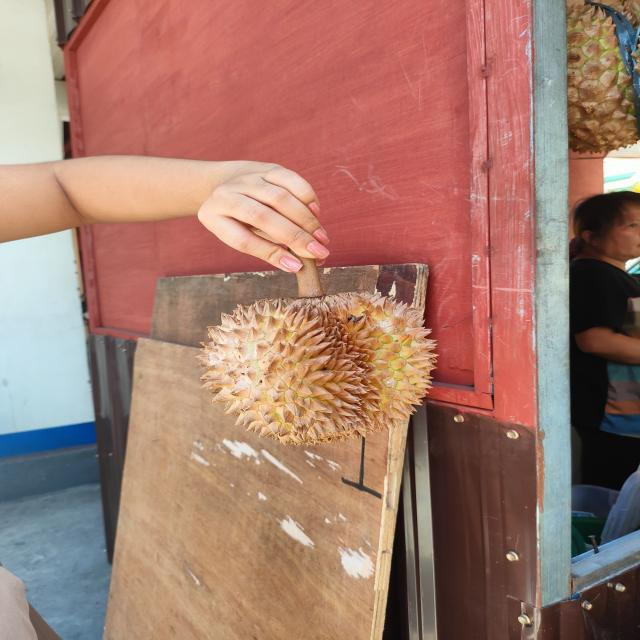mature: (195, 289, 440, 450)
